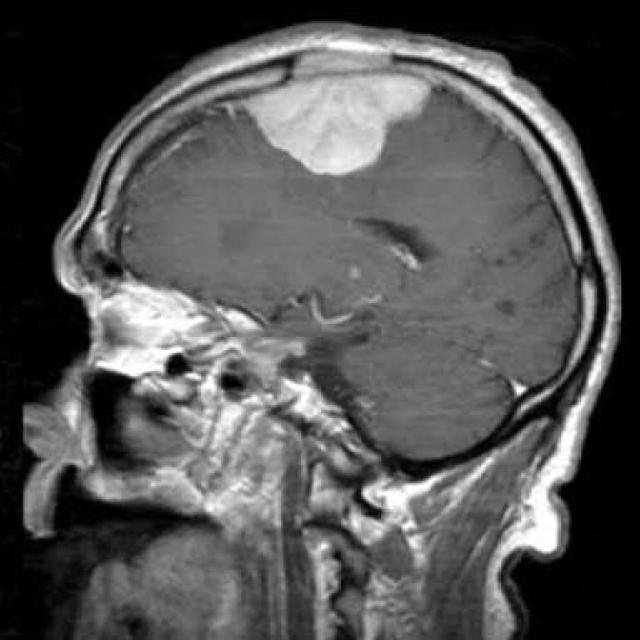Tumor: (243, 68, 440, 175)
